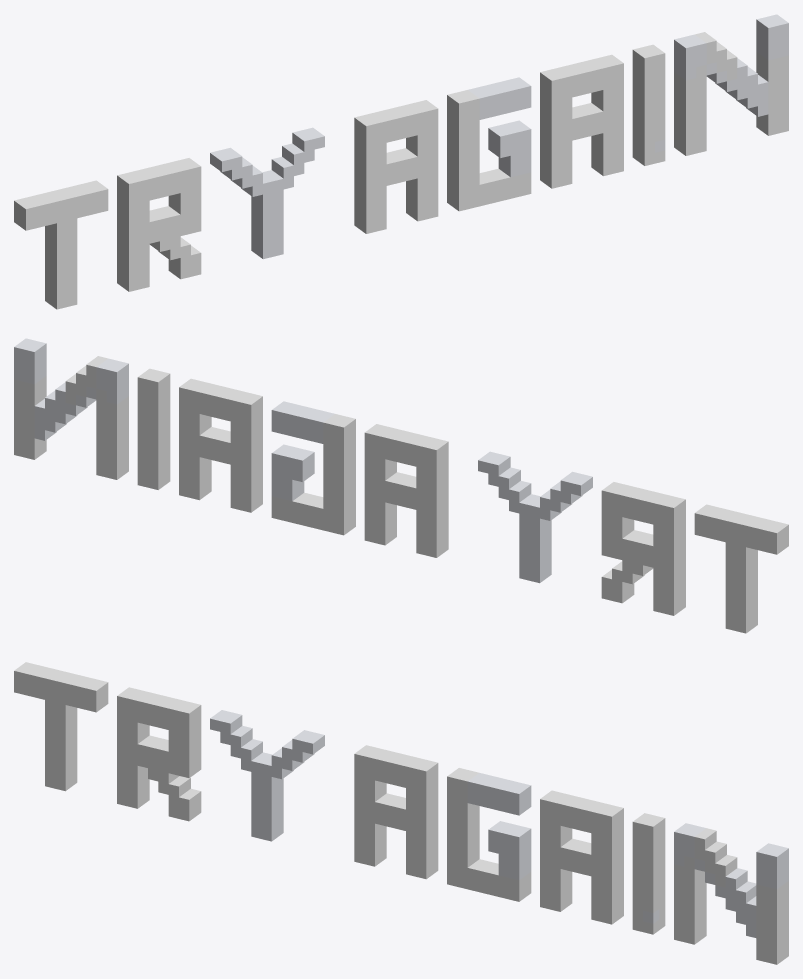
File: tryagain.obj
3 views of the same model, one above another, from view 1: azimuth 30°, elevation 25°; view 2: azimuth 150°, elevation 25°; view 3: azimuth 330°, elevation 25° (orthographic).
Visible parts, largest first — view 1: Matrix_5; view 2: Matrix_5; view 3: Matrix_5.
Part boxes in pixels (<box>): Matrix_5: <box>14,14,788,309</box>; Matrix_5: <box>14,338,788,633</box>; Matrix_5: <box>14,662,788,964</box>.
Size of the model in its own units: 74 by 10 by 2.
Materials: 1 (1 with a texture image).
